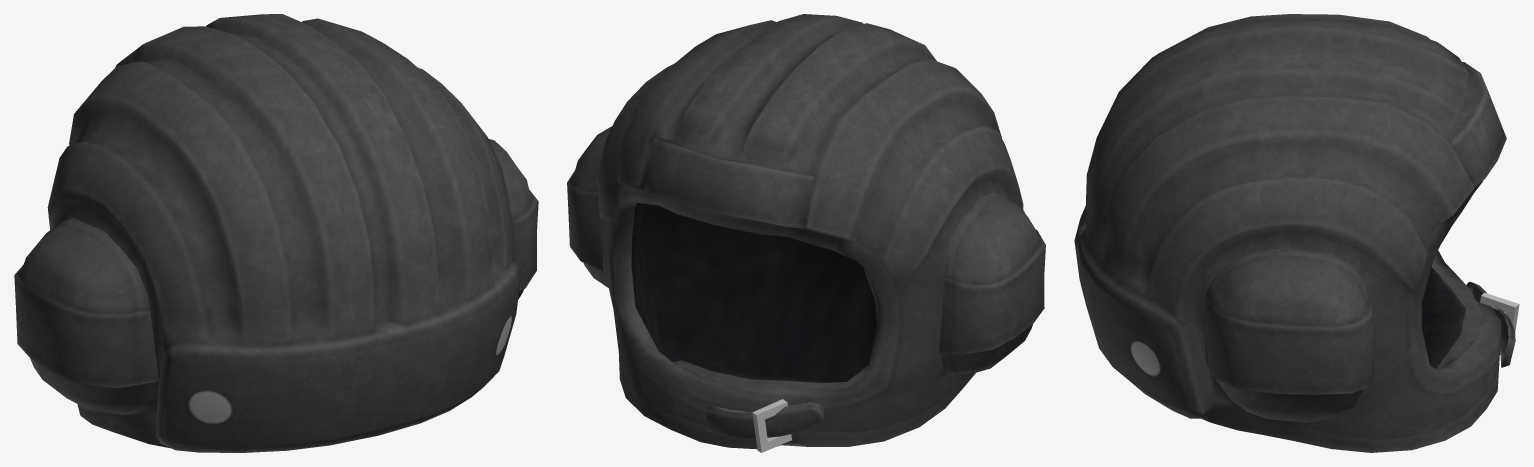
Rendered from IG_Helmat_Lv1-2.fbx.
The picture shows the model from 3 angles, left to right: view 1: azimuth 30°, elevation 25°; view 2: azimuth 150°, elevation 25°; view 3: azimuth 270°, elevation 25°; orthographic projection. The views are drawn at different scales.
Parts seen in each view (by area): view 1: TSH-4M-L; view 2: TSH-4M-L; view 3: TSH-4M-L.
Part boxes in pixels (<box>): TSH-4M-L: <box>14,14,538,452</box>; TSH-4M-L: <box>567,14,1045,452</box>; TSH-4M-L: <box>1074,14,1519,452</box>.
Size of the model in its own units: 0.7694 by 0.56 by 0.6428.
